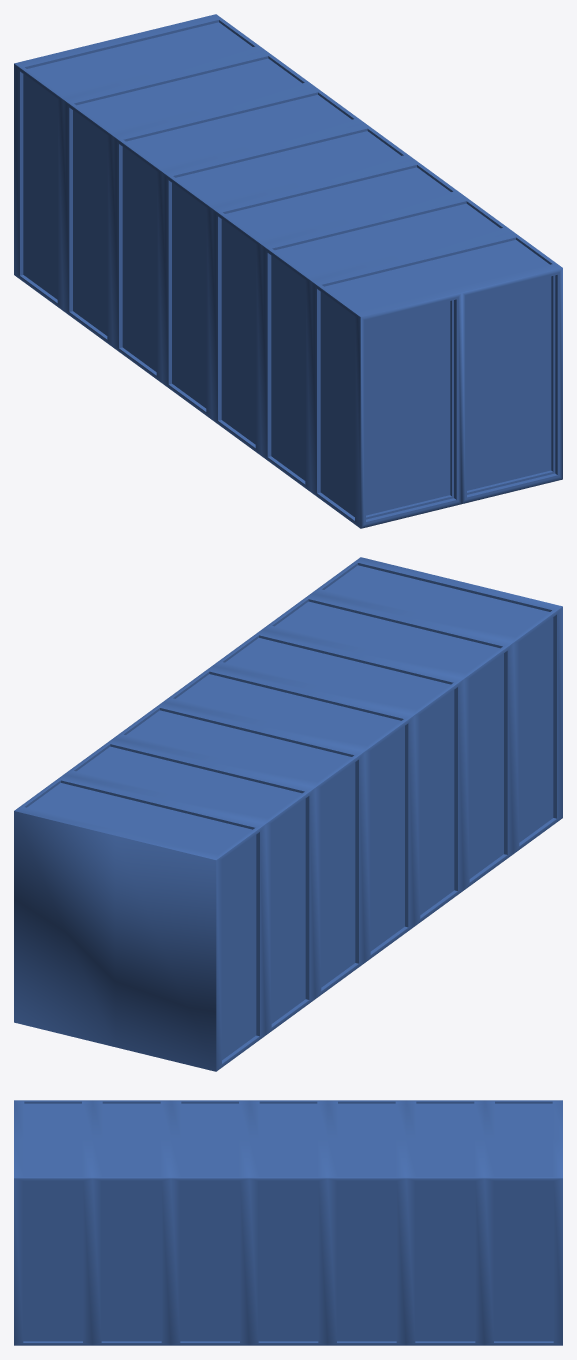
File: container.glb
The picture shows the model from 3 angles, top to bottom: view 1: azimuth 30°, elevation 25°; view 2: azimuth 150°, elevation 25°; view 3: azimuth 270°, elevation 25°; orthographic projection. The views are drawn at different scales.
Visible parts, largest first — view 1: Schiffscontainer; view 2: Schiffscontainer; view 3: Schiffscontainer.
Boxes of the visible parts, <box> form: Schiffscontainer: <box>14,14,562,528</box>; Schiffscontainer: <box>14,557,562,1071</box>; Schiffscontainer: <box>14,1100,562,1345</box>.
Bounding box in the file's own units: 2 × 2 × 5.94.
